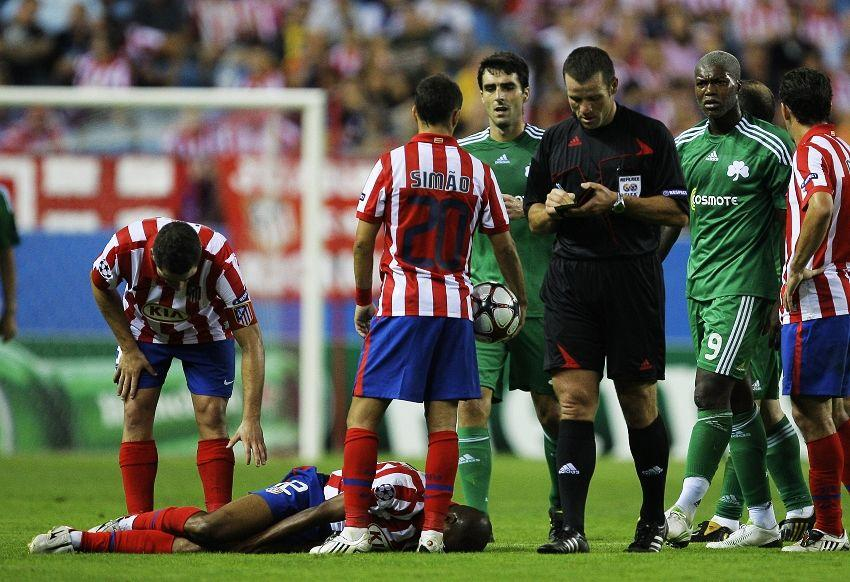bending: (83, 214, 274, 510)
down: (21, 456, 492, 563)
up: (309, 78, 534, 557), (522, 44, 685, 554), (666, 44, 808, 546), (442, 48, 557, 517), (763, 73, 850, 549)
